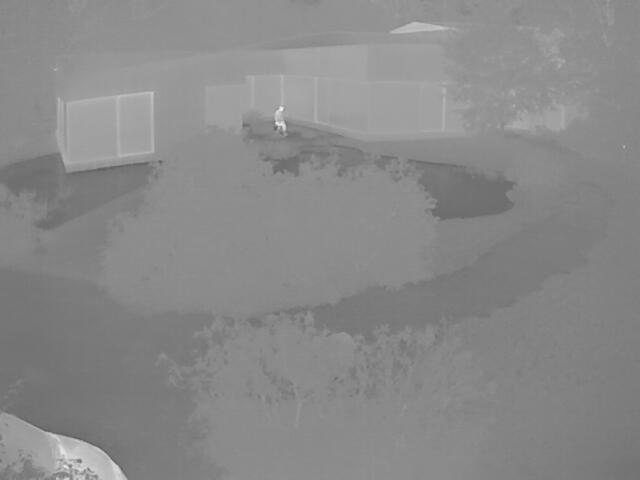person: (272, 105, 286, 131)
